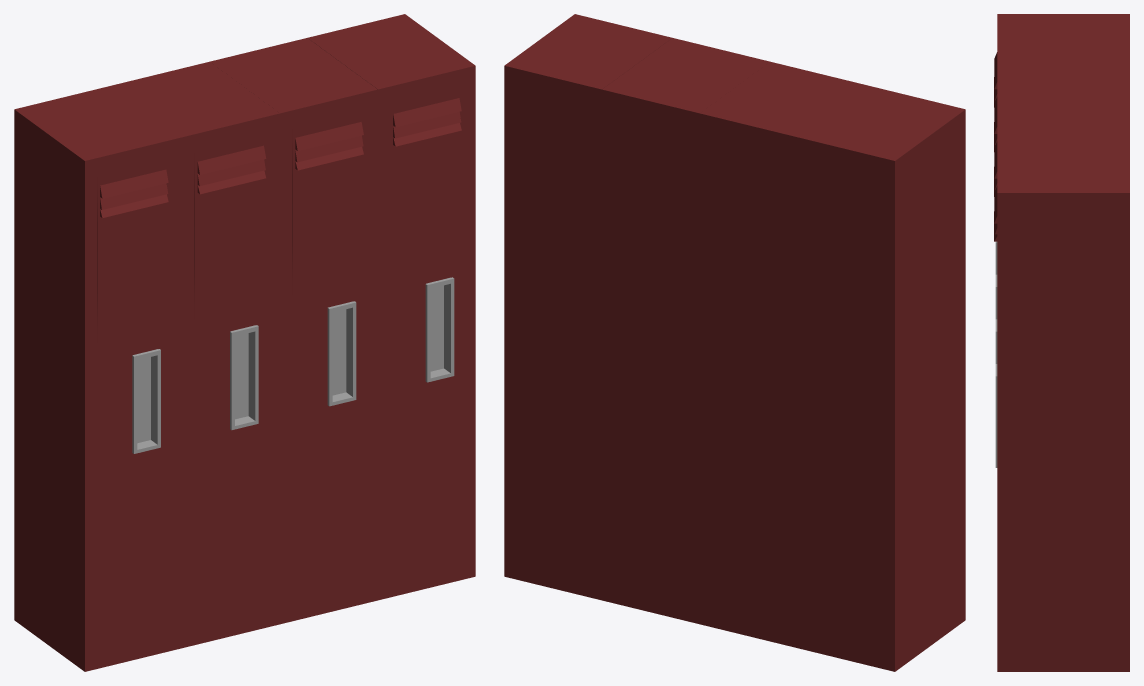
The model's file is Lockers_4.fbx.
3 views of the same model, side by side, from view 1: azimuth 30°, elevation 25°; view 2: azimuth 150°, elevation 25°; view 3: azimuth 270°, elevation 25° (orthographic). The views are drawn at different scales.
Visible parts, largest first — view 1: Outside, Door, Door2, Door3, Door1, Outside1, Outside3, Outside2, Handle2, Handle3, Handle1, Handle (+4 smaller); view 2: Outside, Outside1, Outside3, Outside2; view 3: Outside3, Outside1, Outside, Outside2, Handle3.
Part boxes in pixels (x1,y1,x2,y2): Outside: (14, 85, 182, 671); Door: (97, 154, 169, 652); Door2: (292, 107, 364, 604); Door3: (390, 83, 462, 581); Door1: (195, 130, 266, 628); Outside1: (112, 61, 280, 647); Outside3: (307, 14, 475, 600); Outside2: (210, 38, 377, 624); Handle2: (327, 301, 356, 406); Handle3: (425, 277, 454, 382); Handle1: (230, 325, 258, 430); Handle: (132, 349, 160, 453); Outside: (797, 85, 965, 671); Outside1: (699, 61, 867, 647); Outside3: (504, 14, 672, 600); Outside2: (602, 38, 769, 624); Outside3: (997, 148, 1129, 671); Outside1: (997, 58, 1129, 103); Outside: (997, 14, 1129, 58); Outside2: (997, 103, 1129, 147); Handle3: (995, 364, 997, 467).
Size of the model in its own units: 1.22 by 1.52 by 0.3904.
